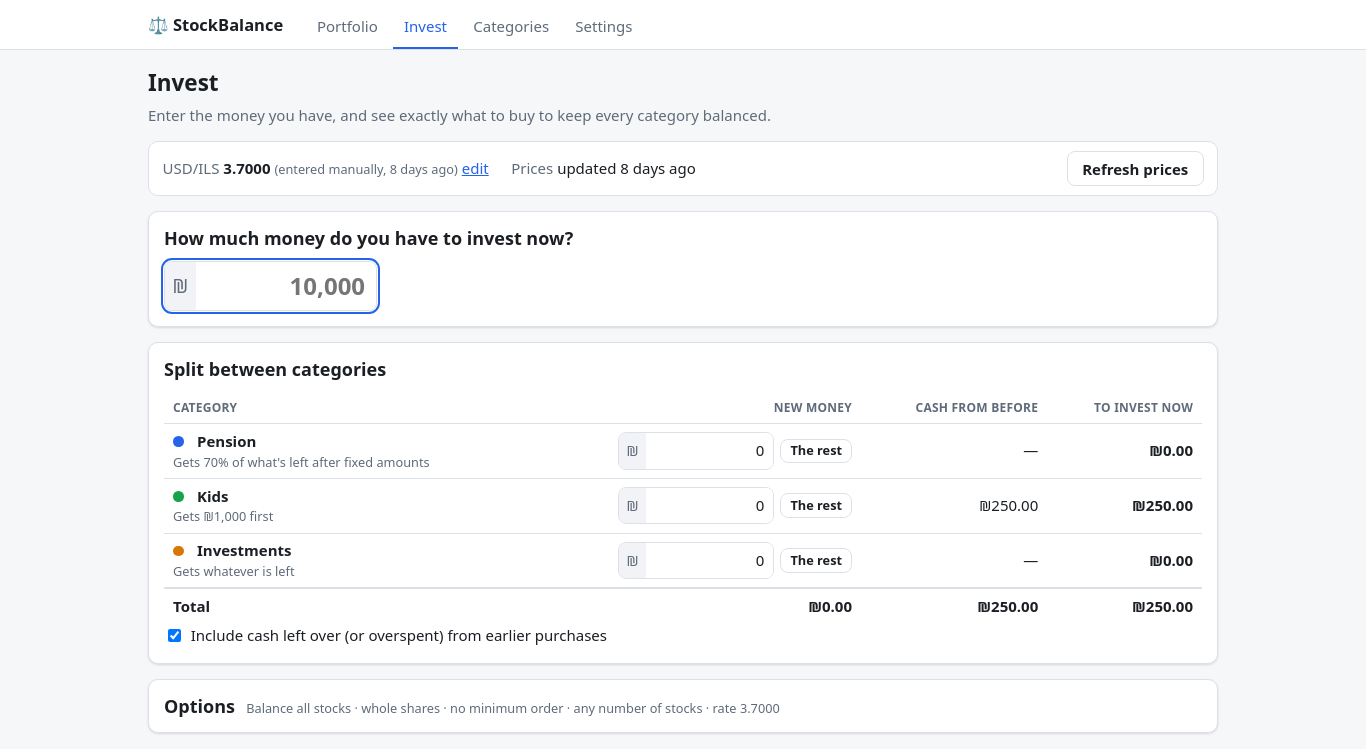
it: InvestPage › splits the money and lists one order per stock
This screenshot has width=1366, height=749.
Type "10000" into the field named "Amount to invest in ILS".
click(286, 286); type("10000")  # box [196, 262, 376, 310]
(page scrolled)
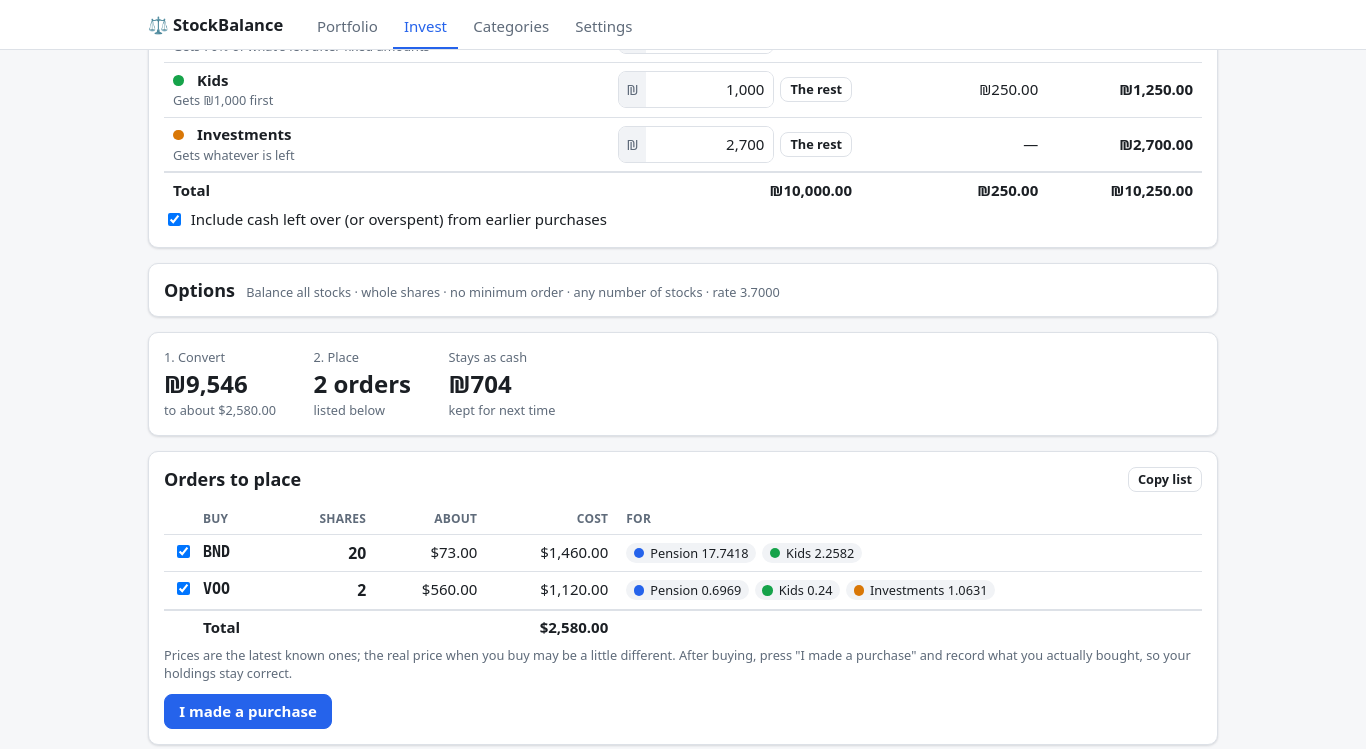
Check: the field named "New money for Kids" holds "1,000", box [646, 72, 774, 107]
Check: the field named "New money for Investments" holds "2,700", box [646, 127, 774, 162]
Check: the cell "20" is shown, box [277, 534, 375, 572]
